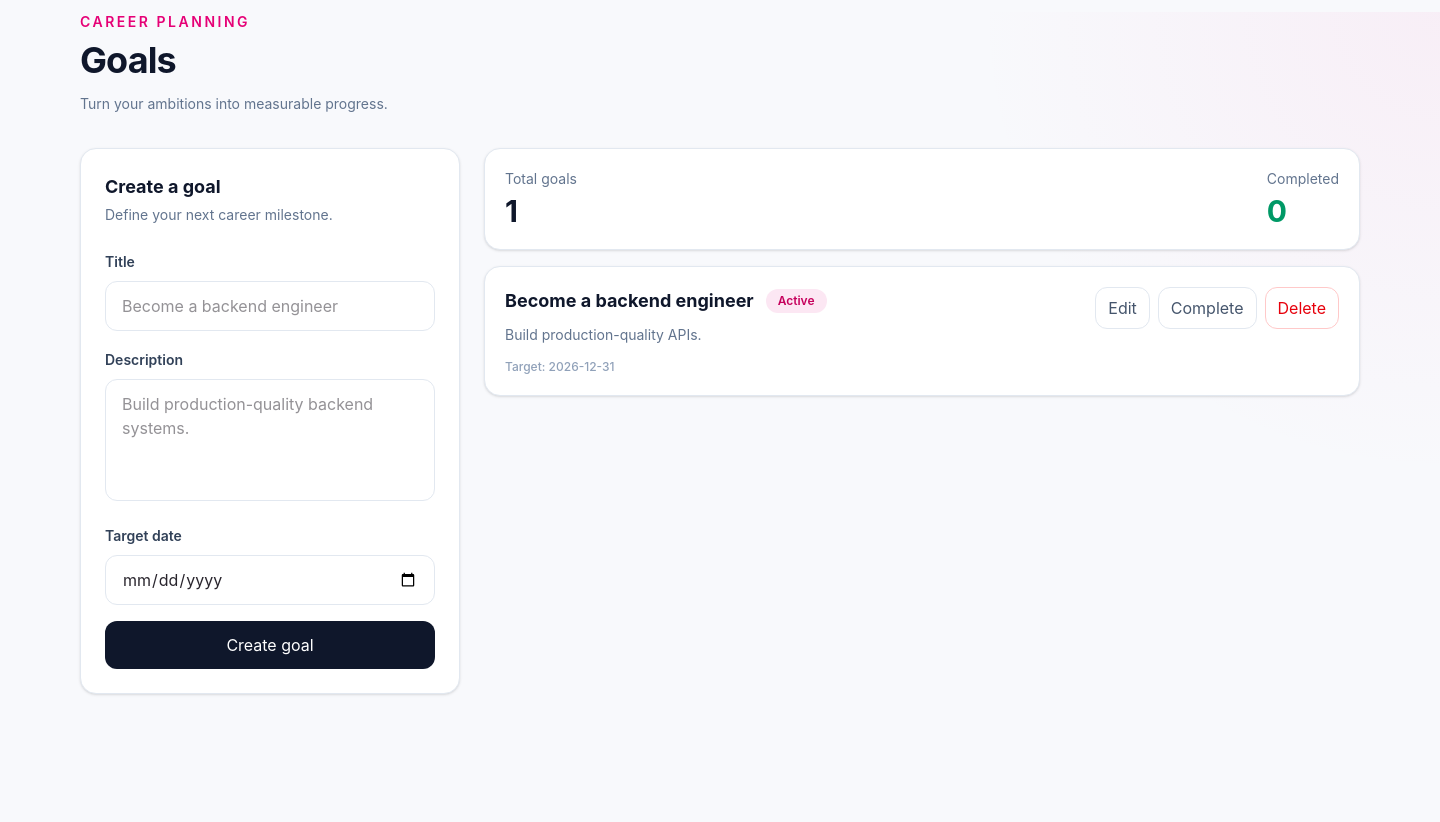
Test: Goals › marks a goal as completed
Expected: the heading "Become a backend engineer" is shown, [505, 287, 754, 315]
Click the button "Complete". click: click(1207, 308)
box: [1158, 287, 1256, 329]
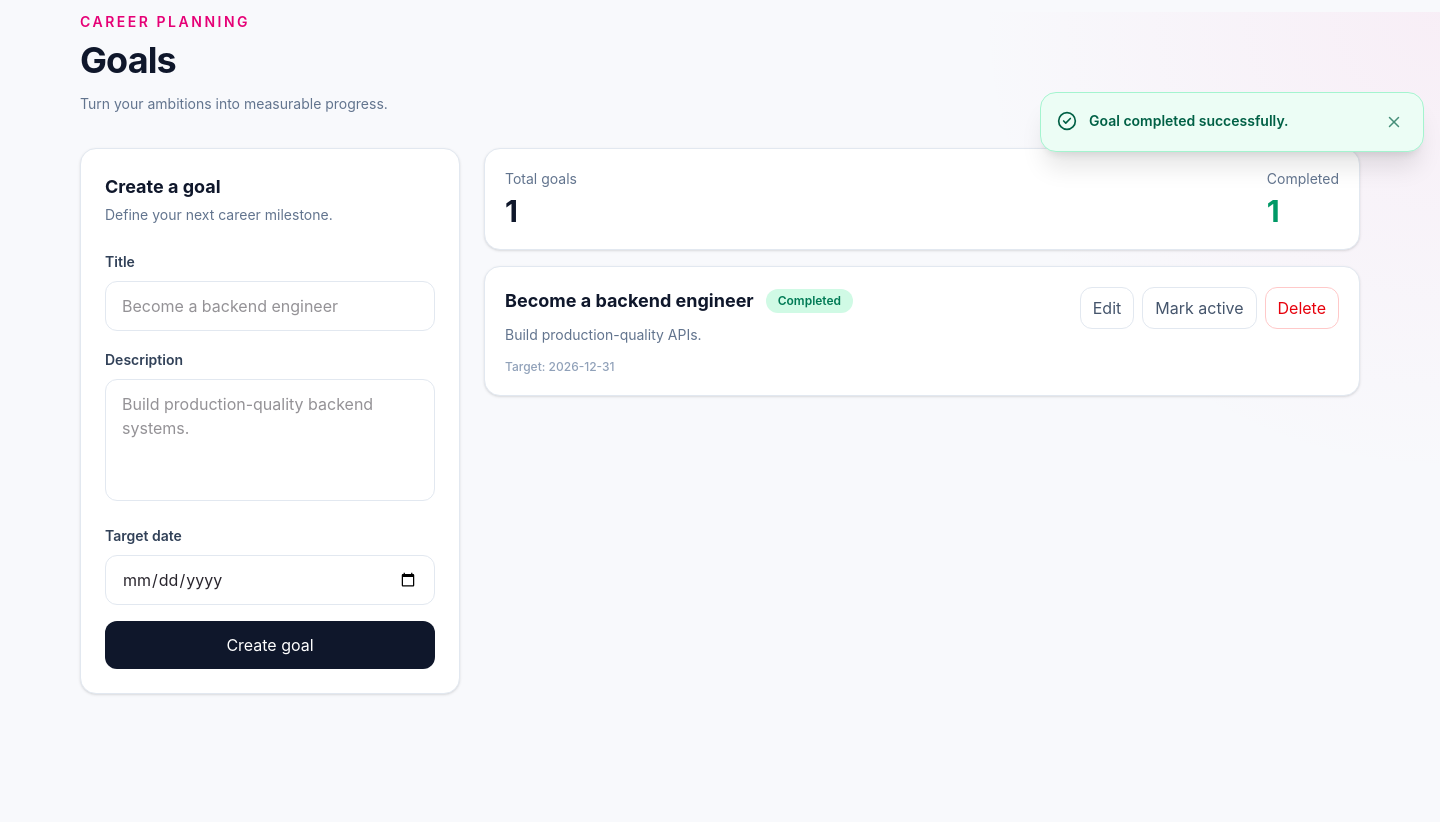
Expected: the text "Completed" next to "Become a backend engineer" is shown, [778, 293, 841, 308]
